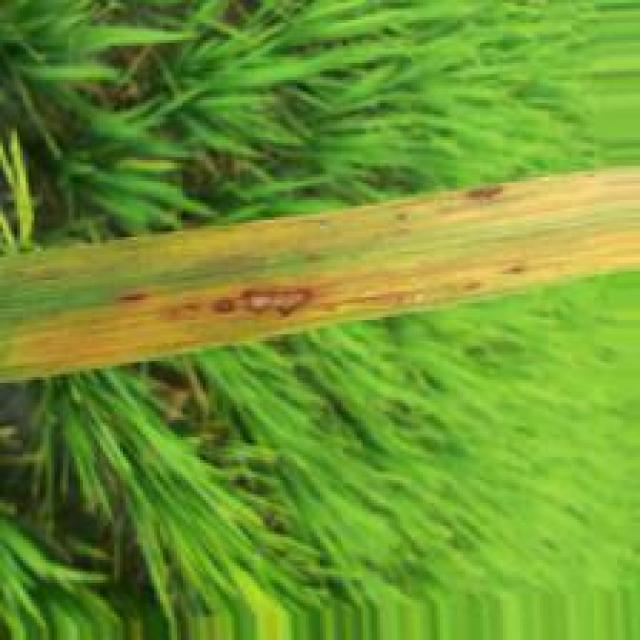Leaf_Blast: (239, 283, 322, 320), (109, 287, 162, 307), (464, 184, 513, 204), (209, 292, 239, 317)
